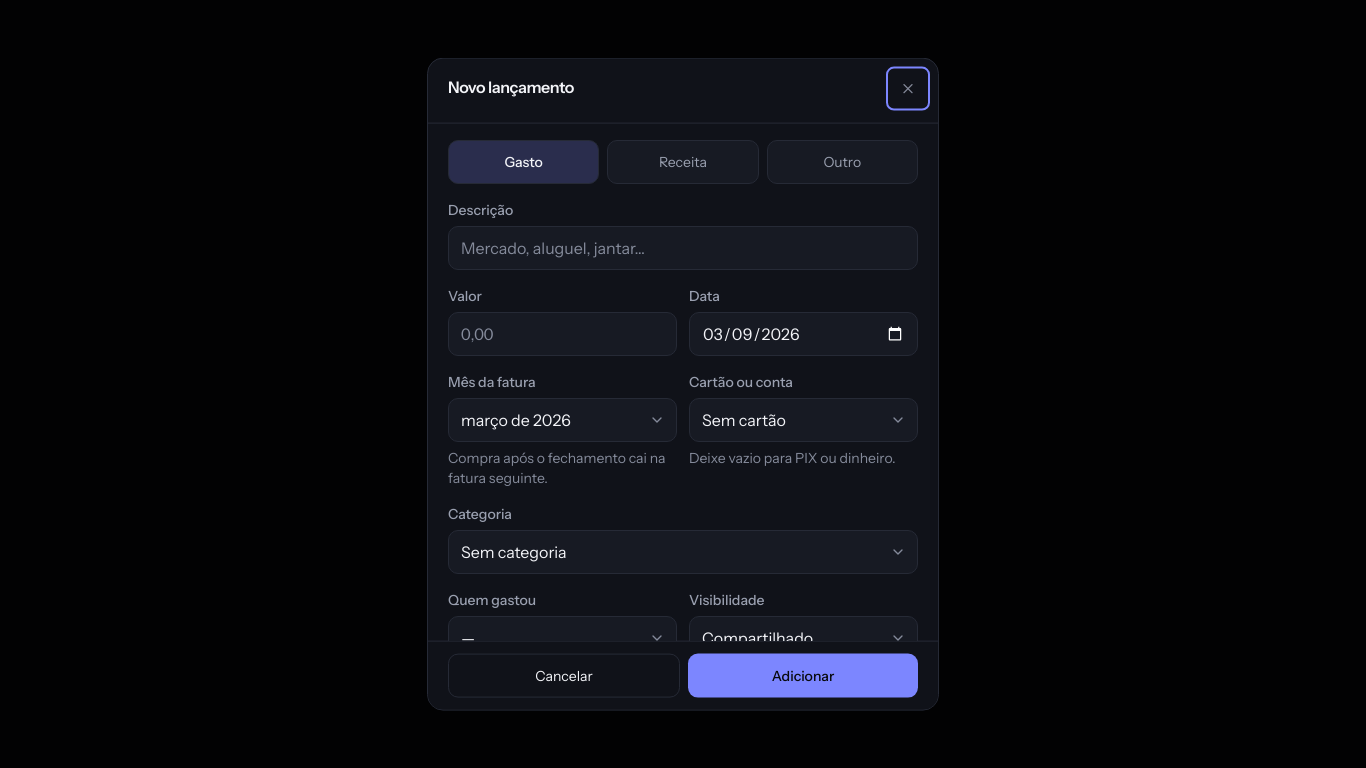
it: no formulário › Receita mostra os atalhos, e um toque preenche nome, valor e data no mês da tela
Expected: the text "Preencher com" is not shown
Step 1. Click the radio button labelled "Receita" → (683, 162), box [607,140,759,184]
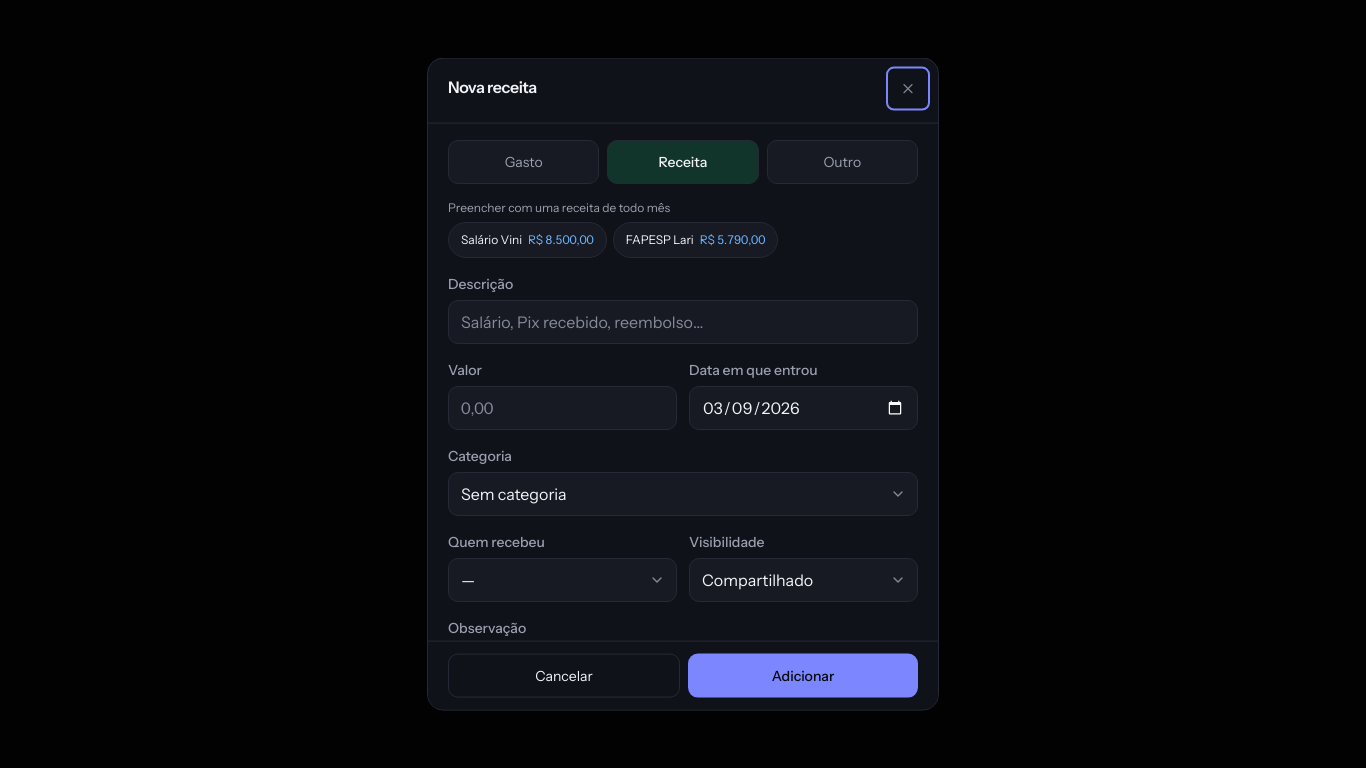
Step 2. Click the button "Salário Vini R$ 8.500,00" → (527, 240), box [448,222,607,258]
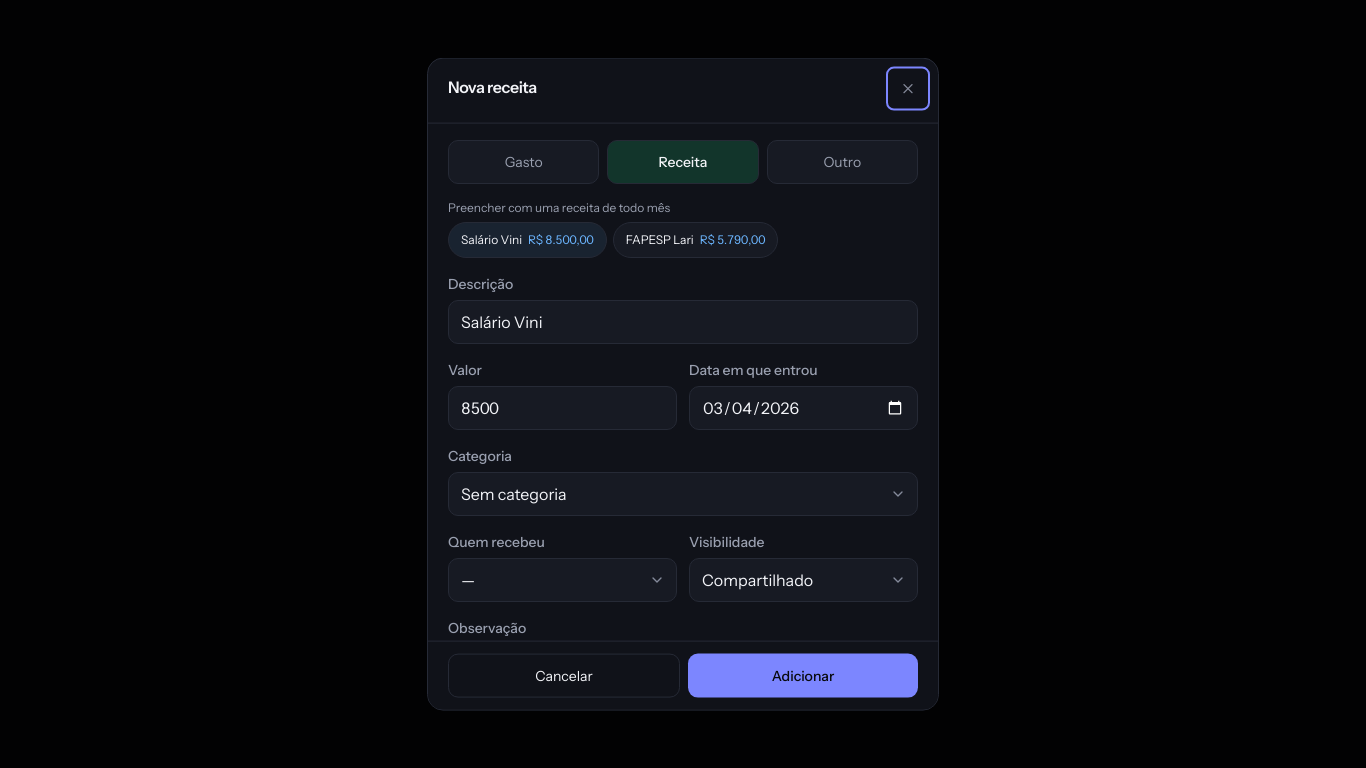
Now the field labelled "Descrição" holds "Salário Vini", box [448,300,918,344]
Now the field labelled "Valor" holds "8500", box [448,386,677,430]
Now the date field labelled "Data em que entrou" holds "2026-03-04", box [689,386,918,430]
